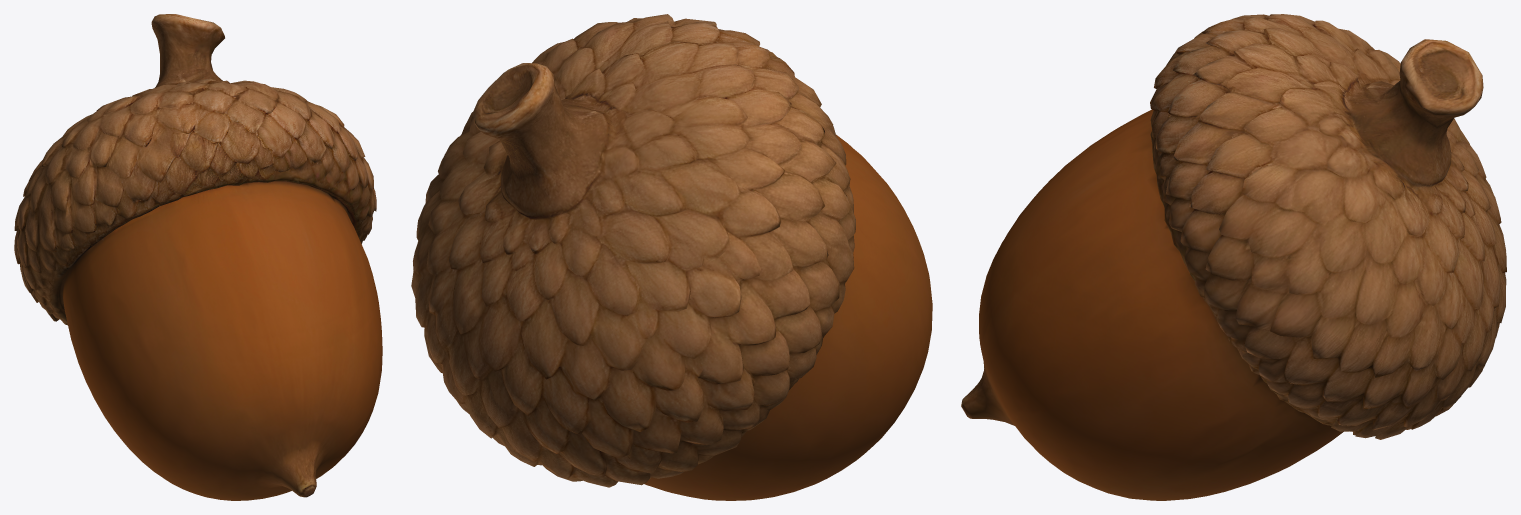
The model's file is source_2.glb.
3 views of the same model, side by side, from view 1: azimuth 30°, elevation 25°; view 2: azimuth 150°, elevation 25°; view 3: azimuth 270°, elevation 25° (orthographic). The views are drawn at different scales.
Visible parts, largest first — view 1: tripo_node_24620363-361f-4cbd-a126-55f2d80bcf18; view 2: tripo_node_24620363-361f-4cbd-a126-55f2d80bcf18; view 3: tripo_node_24620363-361f-4cbd-a126-55f2d80bcf18.
Boxes of the visible parts, <box> form: tripo_node_24620363-361f-4cbd-a126-55f2d80bcf18: <box>14,14,382,500</box>; tripo_node_24620363-361f-4cbd-a126-55f2d80bcf18: <box>411,14,932,500</box>; tripo_node_24620363-361f-4cbd-a126-55f2d80bcf18: <box>961,14,1506,500</box>.
Size of the model in its own units: 0.8103 by 0.9327 by 0.9791.
1 material, 1 textured.
